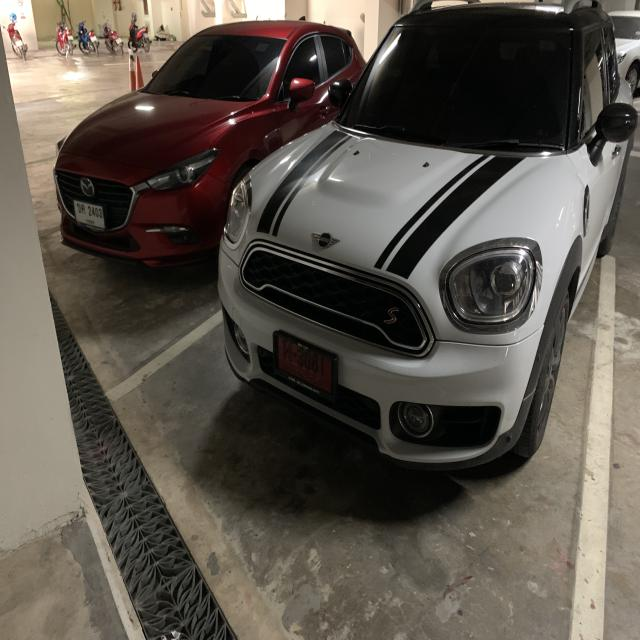license_plate: (271, 325, 339, 405), (71, 195, 108, 235)
